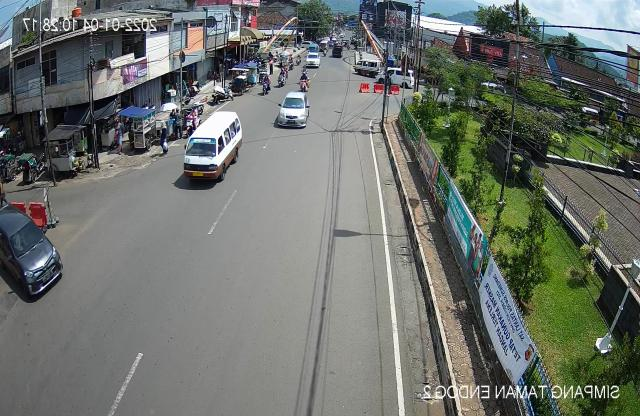Mobil: (0, 196, 68, 307), (177, 109, 244, 191), (274, 89, 310, 132)
